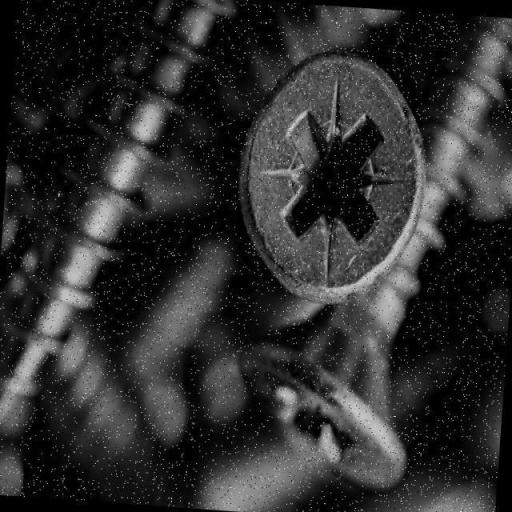Pozidriv: (236, 42, 424, 300)
